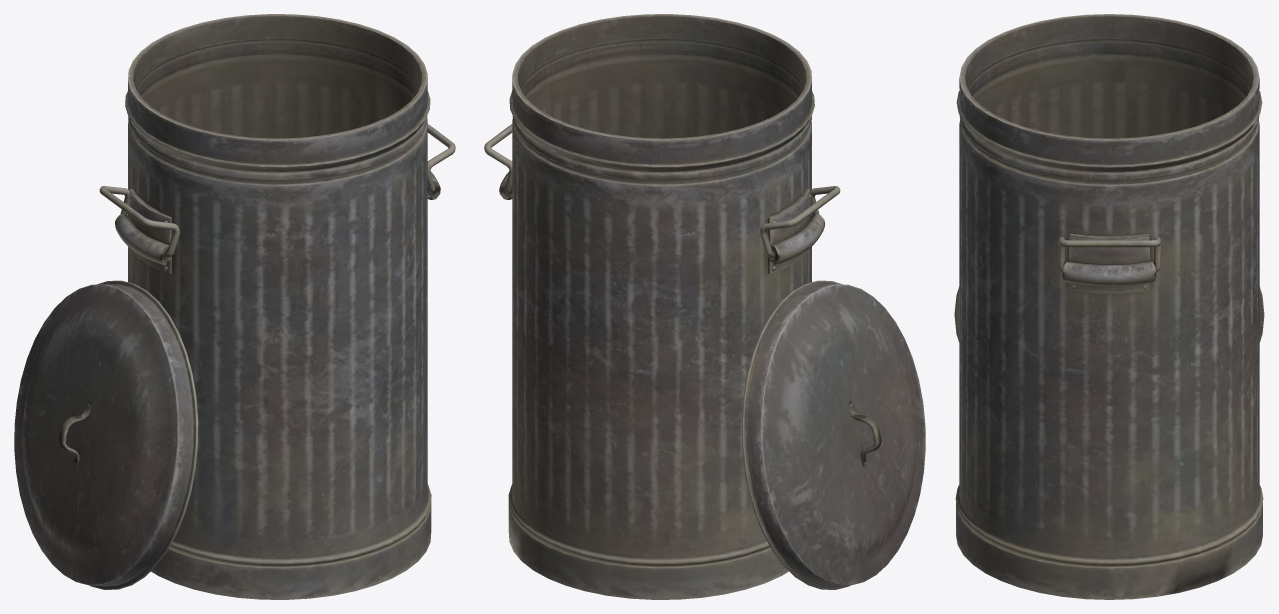
Rendered from zafacon.glb.
3 renders of one model, left to right at view 1: azimuth 30°, elevation 25°; view 2: azimuth 150°, elevation 25°; view 3: azimuth 270°, elevation 25°, orthographic.
Visible parts, largest first — view 1: zafacon; view 2: zafacon; view 3: zafacon.
Part boxes in pixels (x1,y1,x2,y2): zafacon: [14, 14, 455, 599]; zafacon: [484, 14, 925, 599]; zafacon: [954, 14, 1264, 599].
Size of the model in its own units: 0.778 by 0.9062 by 0.5563.
Materials: 1 (1 with a texture image).
